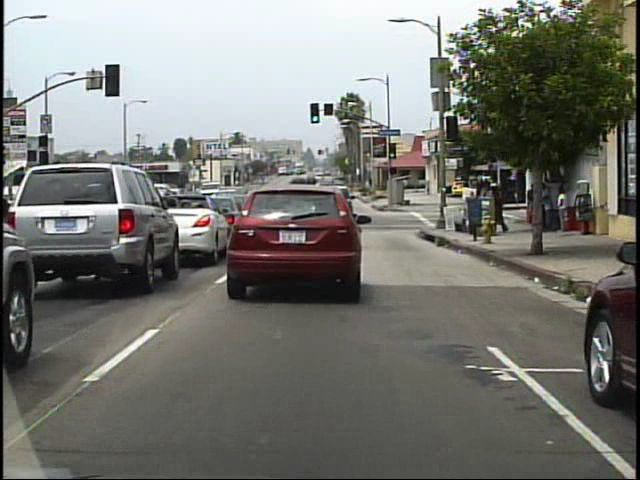person: (534, 181, 551, 234), (555, 186, 571, 235), (496, 182, 509, 234), (526, 183, 539, 221)
